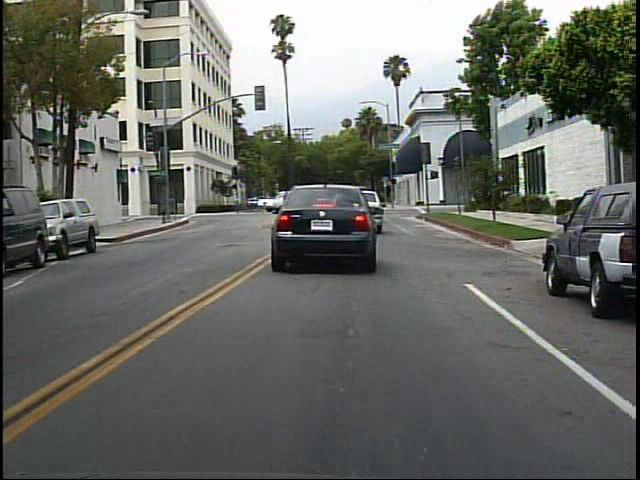person: (278, 185, 303, 221)
